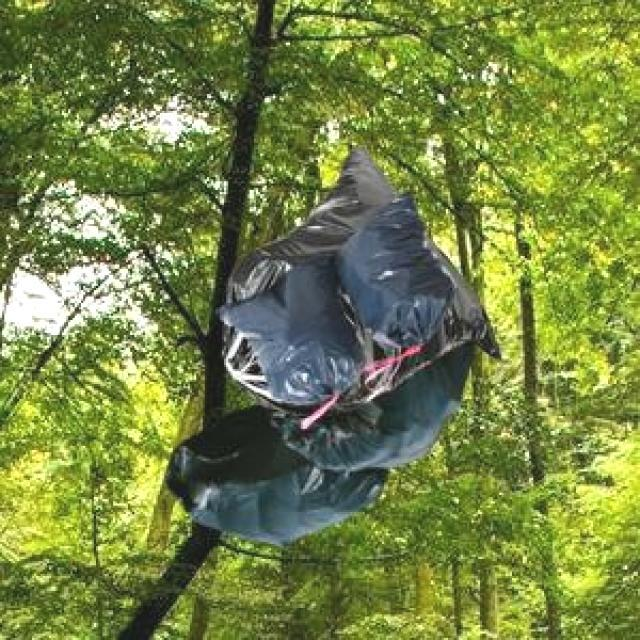Trashbag: (170, 424, 325, 547), (288, 372, 473, 475), (243, 250, 354, 398), (348, 195, 450, 338)
